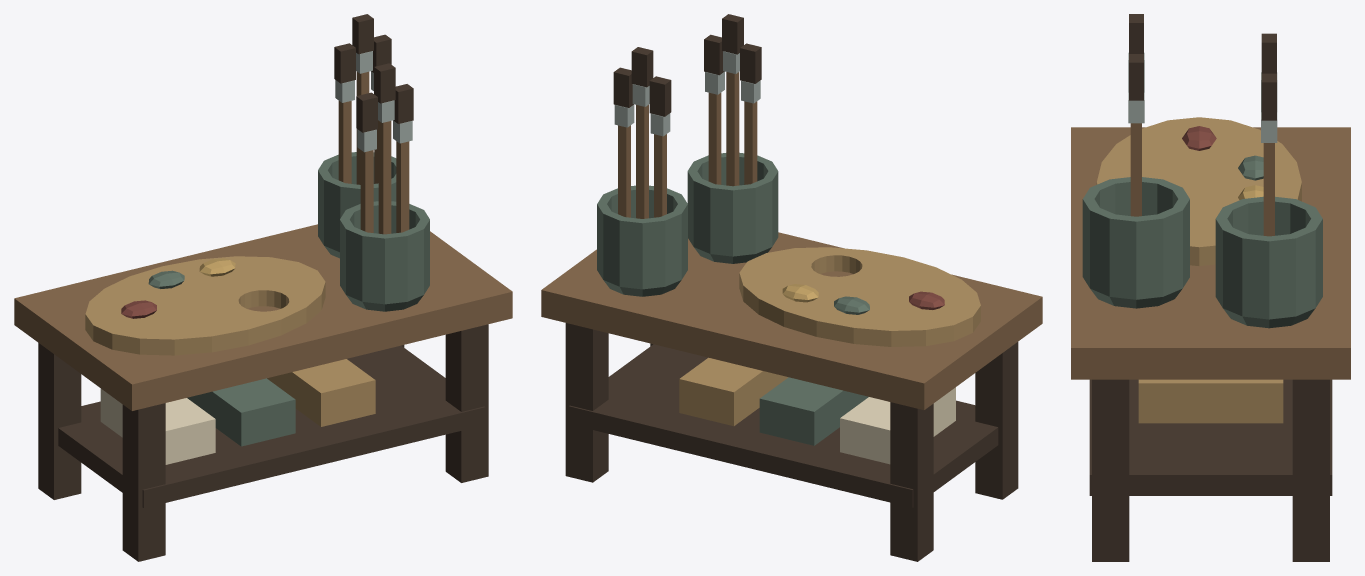
Rendered from 03_Palette_Brush_Stand.fbx.
3 renders of one model, left to right at view 1: azimuth 30°, elevation 25°; view 2: azimuth 150°, elevation 25°; view 3: azimuth 270°, elevation 25°, orthographic. The views are drawn at different scales.
Visible parts, largest first — view 1: Structure.001; view 2: Structure.001; view 3: Structure.001.
Boxes of the visible parts, x1,y1,x2,y2 form: Structure.001: (14, 14, 512, 561); Structure.001: (541, 14, 1042, 561); Structure.001: (1071, 14, 1350, 561).
Bounding box in the file's own units: 224 × 234 × 120.
